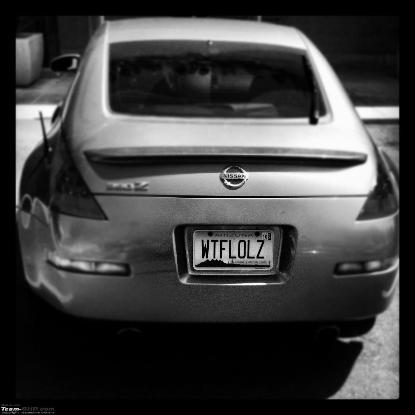license plate: (188, 224, 279, 278)
